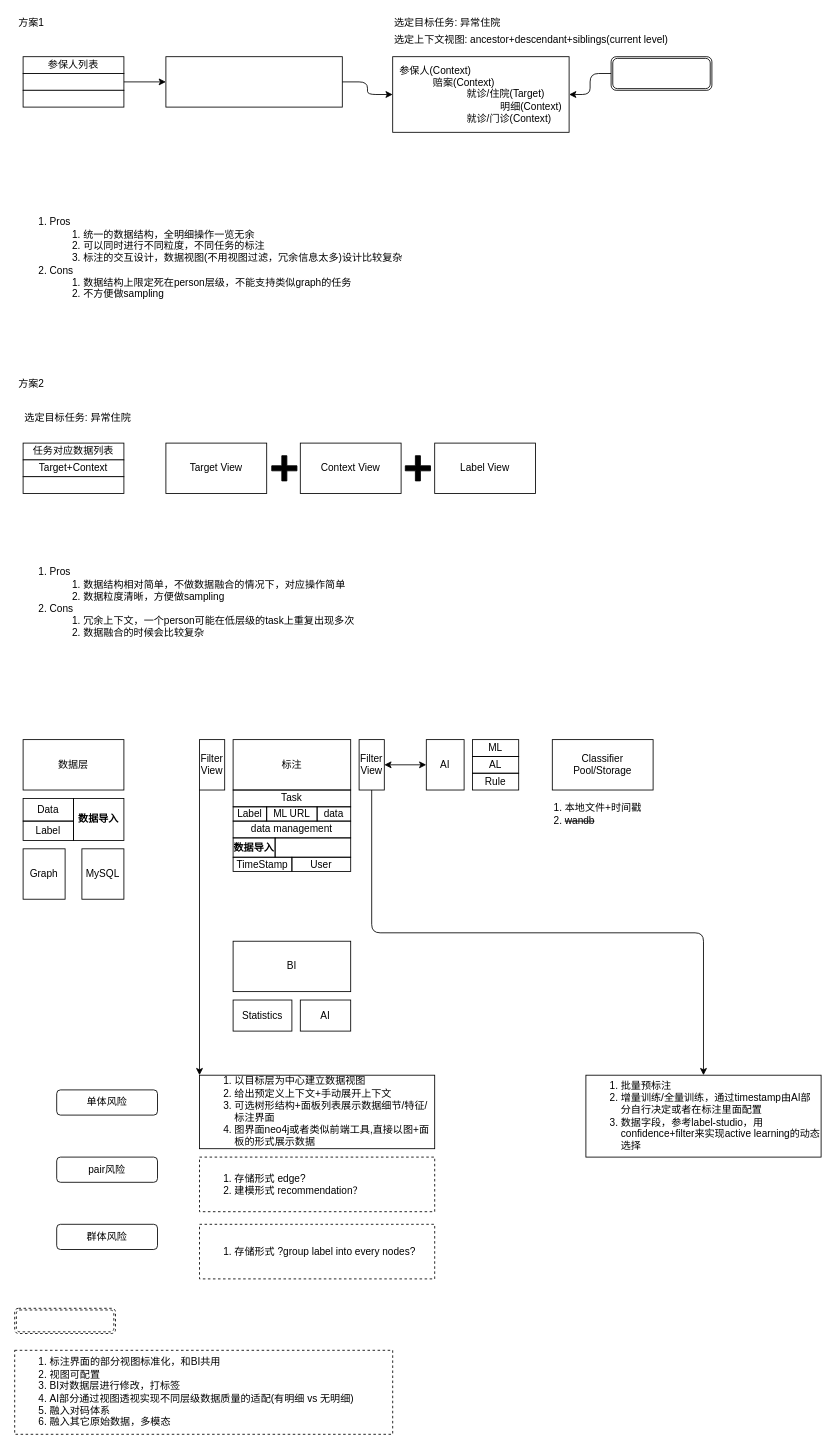
Some shapes in this 836 by 1452 pixel diagram are drawn without their labels. The centre of each missing label's shape, as x and y in pixels:
分配/选择/回顾: pixel 312 847
参保人 赔案 就诊 明细: pixel 253 81
标注target data point: pixel 661 73
脑暴: pixel 65 1320
